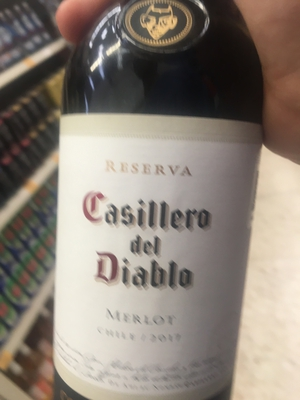casillero del diablo merlot: (53, 10, 265, 400)
